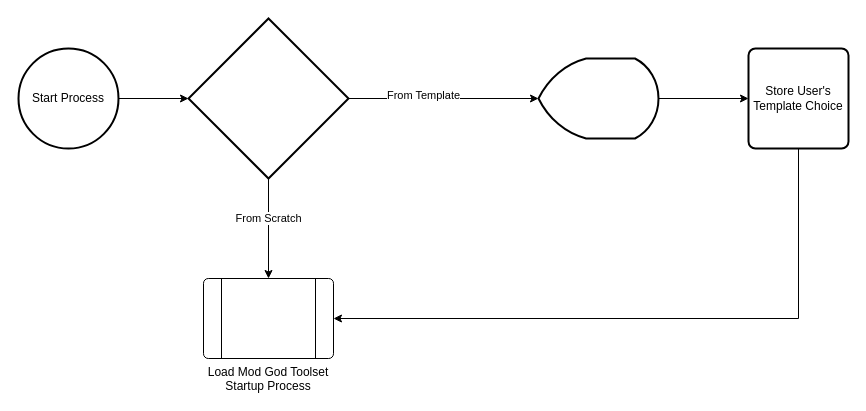
Some shapes in this 866 by 411 pixel diagram are drawn without their labels. Here are the shapes that lost their labels. From the top down, the centre of each, then its label:
point (268, 98): Create from Template or From Scratch
point (598, 98): Display Template Options
